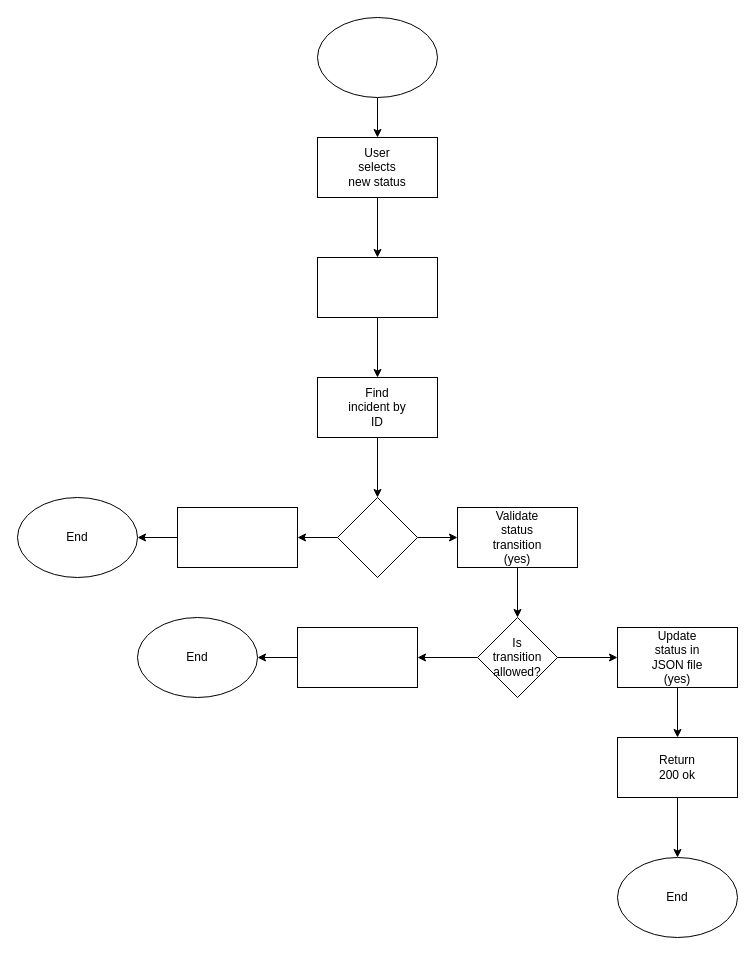
Some shapes in this 755 by 955 pixel diagram are drawn without their labels. The shapes that lost their labels are listed below. From the top down, each one's centre as x and y in pixels, then its label:
the point at 377,57: Start
the point at 377,287: User sends PATCH
the point at 237,537: Return 404 error (no)
the point at 377,537: Does incident exist?
the point at 357,657: Return 400 invalid transition (no)
